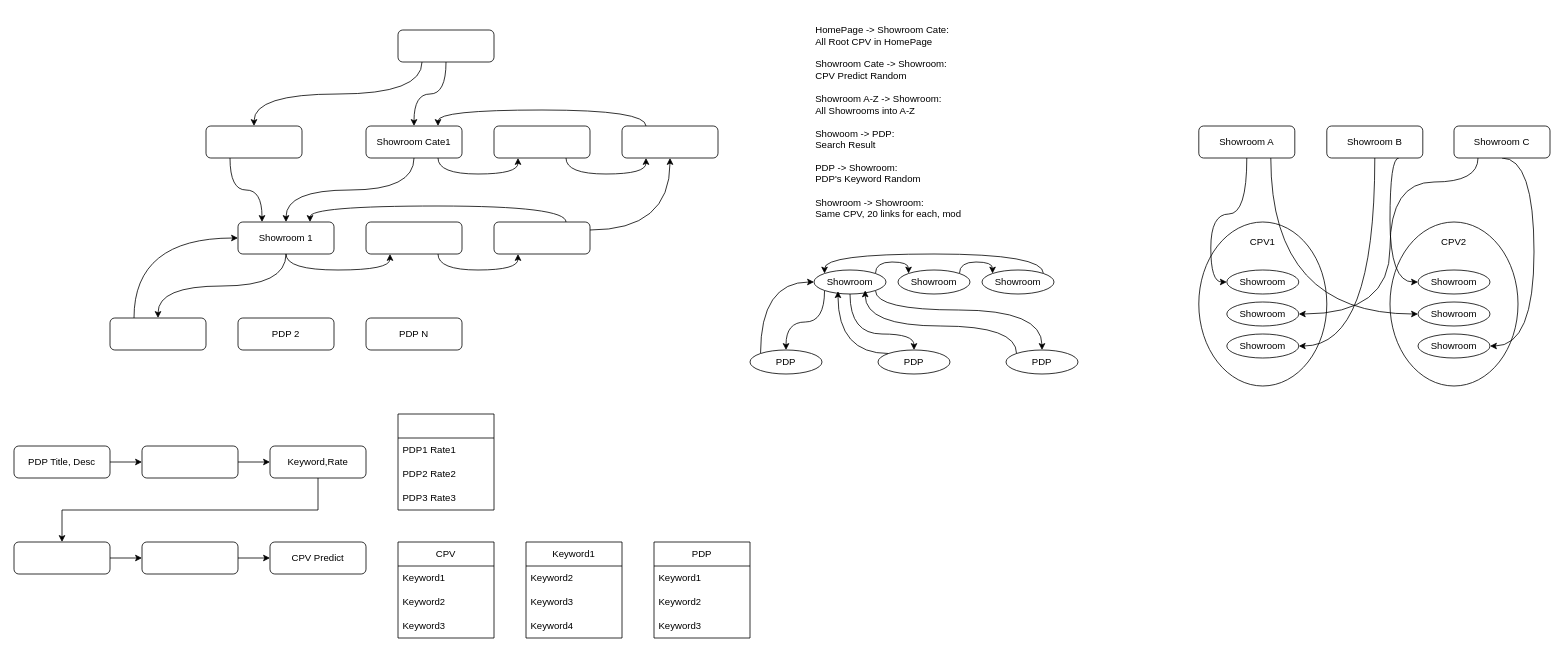
Image size: 1564x652. Some labels were removed from this diagram. Each missing label, with the box of its shape:
90% PDP with Least Keyword Num: (141, 541, 238, 574)
HomePage: (397, 29, 494, 62)
Keyword: (397, 413, 494, 510)
Keyword's PDP Num >=33 & Rate Filter: (13, 541, 110, 574)
PDP 1: (109, 317, 206, 350)
Showroom 2: (365, 221, 462, 254)
Showroom A-Z: (205, 125, 302, 158)
Showroom Cate2: (493, 125, 590, 158)
Showroom CateN: (621, 125, 718, 158)
Showroom N: (493, 221, 590, 254)
Title Length > 2 & Desc Length > 30: (141, 445, 238, 478)
